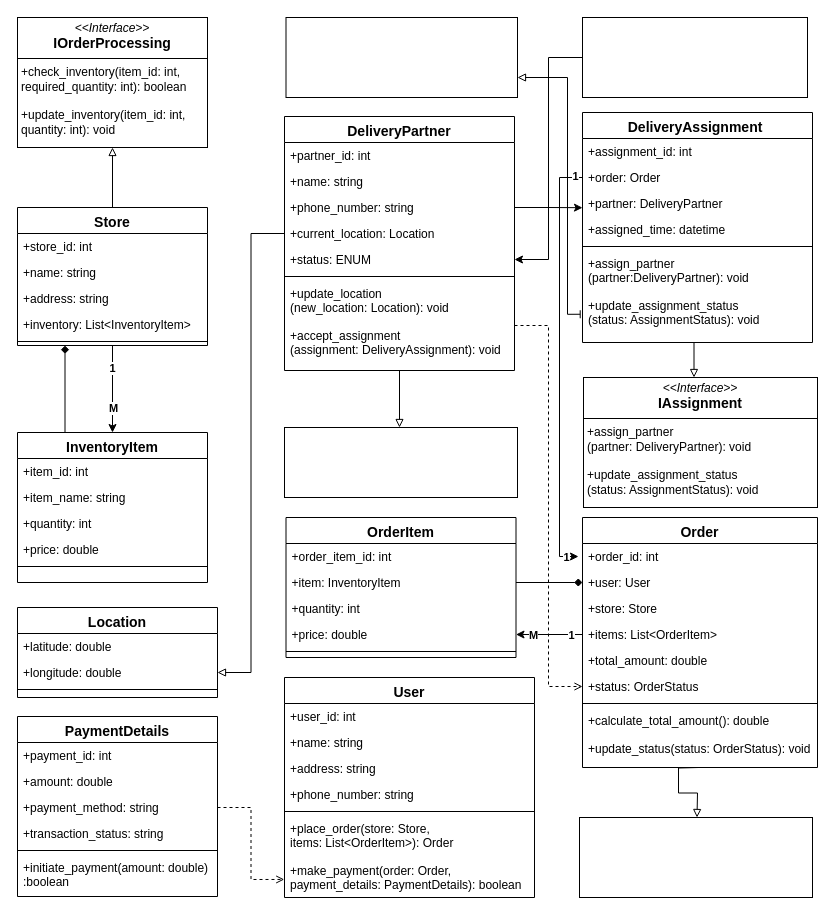
Image size: 835x918. Some labels were removed from this diagram. Here are the shapes that lost their labels. From the top down, the centre of each, then its label:
At pixel 401 57: "<<enumeration>> AssignmentStatus PENDING, ASSIGNED, IN_PROGRESS, COMPLETED".
At pixel 695 57: "<<enumeration>> PartnerStatus ONLINE, OFFLINE".
At pixel 401 462: "<<Interface>> IOnlineStatus +is_online(): boolean".
At pixel 695 857: "<<enumeration>> OrderStatus PENDING, CONFIRMED, DISPATCHED, DELIVERED".
